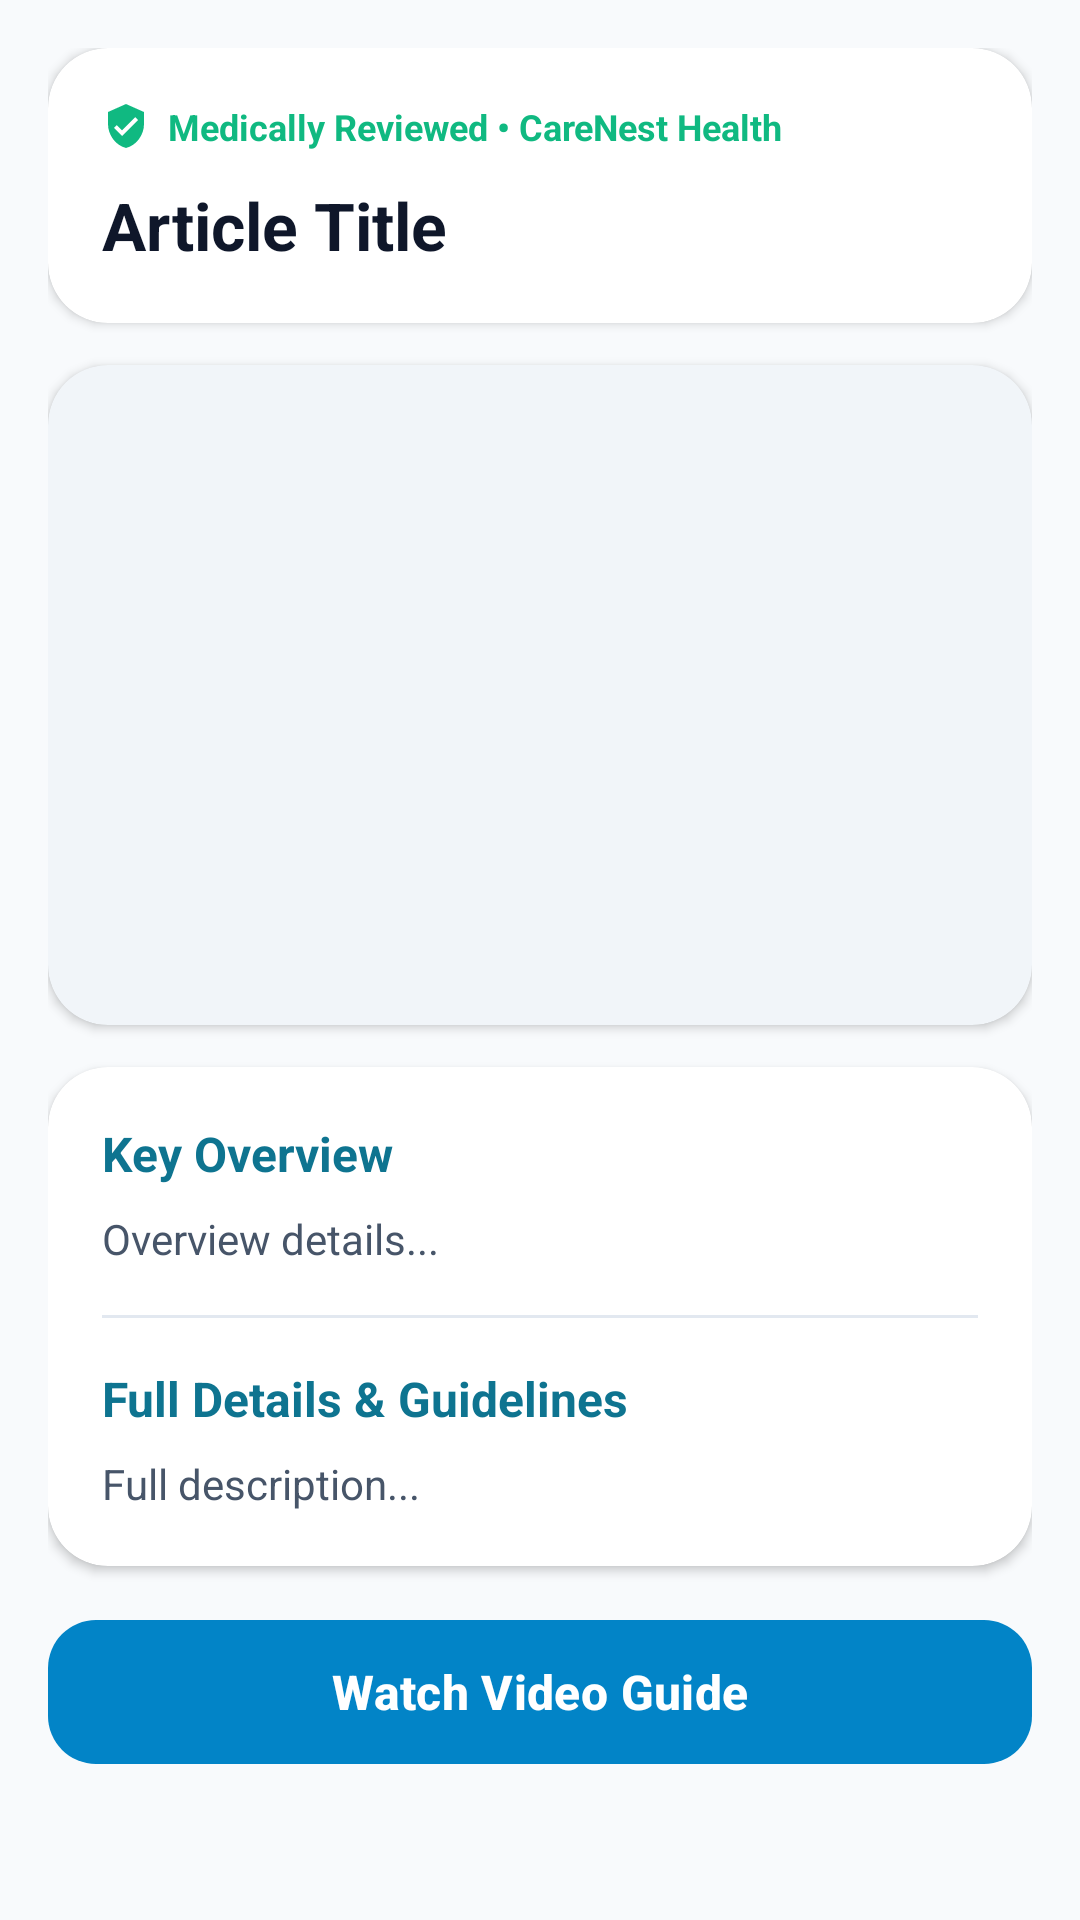

Locate icon controls on the screen. Image size 1080*1920, boxes as (x1, y1, x2, y2).
shield: (108, 104, 144, 148)
